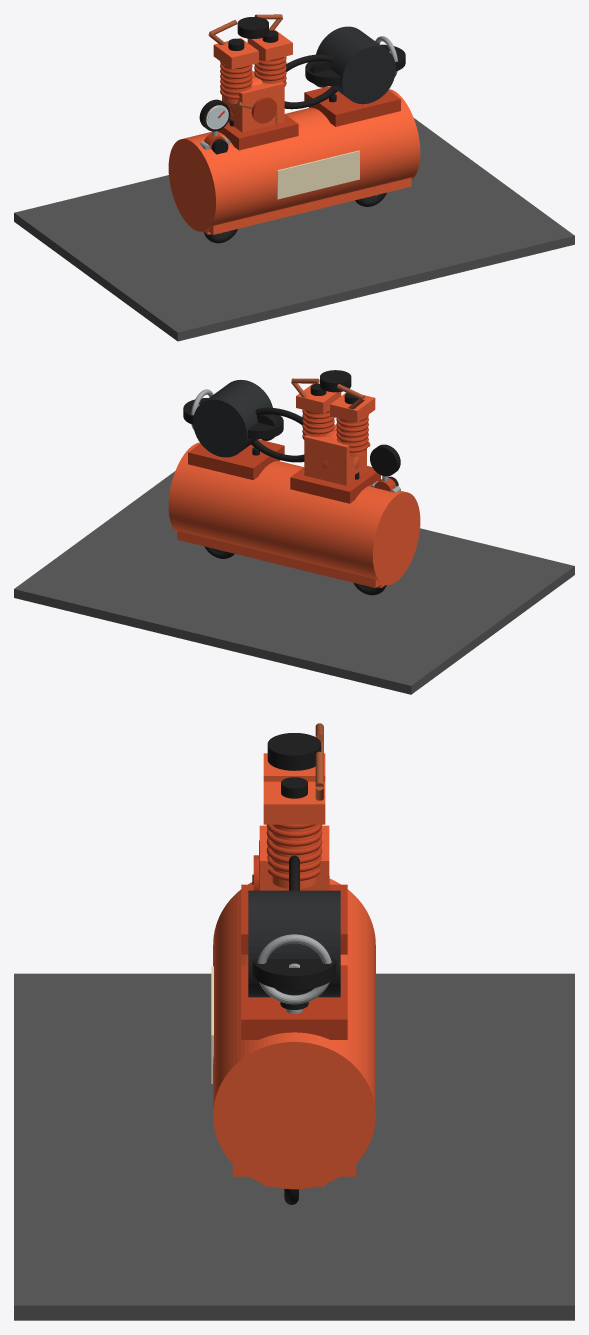
3 views of the same model, one above another, from view 1: azimuth 30°, elevation 25°; view 2: azimuth 150°, elevation 25°; view 3: azimuth 270°, elevation 25° (orthographic). The views are drawn at different scales.
Parts seen in each view (by area): view 1: Floor, Main Air Tank, Electric Motor, SHARK Label, Tank Bottom Shadow, Motor Mount, Compressor Pump Body, Pump Mount, Cylinder Head 1, Drive Belt, Cylinder Head 2, Pump Top Cap (+2 smaller); view 2: Floor, Main Air Tank, Electric Motor, Compressor Pump Body, Tank Bottom Shadow, Motor Mount, Pump Mount, Cylinder Head 1, Drive Belt, Pressure Gauge Housing, Cylinder Head 2, Pump Top Cap (+1 smaller); view 3: Floor, Main Air Tank, Electric Motor, Motor Mount, Motor Rear, Cylinder Head 2, Pump Top Cap, Compressor Pump Body, Motor Fan Ring, Pump Mount, Pump Cylinder 2, Cylinder Head 1.
Part boxes in pixels (left/top/right/bottom): Floor: left=14, top=118, right=574, bottom=341; Main Air Tank: left=168, top=89, right=420, bottom=231; Electric Motor: left=316, top=26, right=395, bottom=104; SHARK Label: left=277, top=150, right=359, bottom=199; Tank Bottom Shadow: left=177, top=177, right=411, bottom=234; Motor Mount: left=304, top=86, right=400, bottom=126; Compressor Pump Body: left=222, top=71, right=284, bottom=132; Pump Mount: left=218, top=114, right=298, bottom=150; Cylinder Head 1: left=213, top=38, right=258, bottom=69; Drive Belt: left=284, top=54, right=337, bottom=109; Cylinder Head 2: left=247, top=30, right=292, bottom=60; Pump Top Cap: left=237, top=17, right=268, bottom=38; Floor: left=14, top=471, right=574, bottom=694; Main Air Tank: left=168, top=442, right=420, bottom=584; Electric Motor: left=193, top=380, right=272, bottom=457; Compressor Pump Body: left=304, top=424, right=366, bottom=485; Tank Bottom Shadow: left=177, top=531, right=411, bottom=588; Motor Mount: left=188, top=439, right=284, bottom=480; Pump Mount: left=290, top=466, right=380, bottom=503; Cylinder Head 1: left=330, top=392, right=375, bottom=422; Drive Belt: left=251, top=407, right=304, bottom=462; Pressure Gauge Housing: left=370, top=444, right=400, bottom=476; Cylinder Head 2: left=296, top=383, right=341, bottom=414; Pump Top Cap: left=320, top=370, right=351, bottom=392; Floor: left=14, top=973, right=574, bottom=1320; Main Air Tank: left=213, top=878, right=375, bottom=1189; Electric Motor: left=248, top=890, right=340, bottom=997; Motor Mount: left=241, top=965, right=347, bottom=1039; Motor Rear: left=252, top=959, right=336, bottom=990; Cylinder Head 2: left=263, top=781, right=325, bottom=824; Pump Top Cap: left=267, top=733, right=321, bottom=770; Compressor Pump Body: left=259, top=825, right=329, bottom=890; Motor Fan Ring: left=257, top=934, right=331, bottom=1004; Pump Mount: left=241, top=884, right=347, bottom=954; Pump Cylinder 2: left=271, top=824, right=317, bottom=888; Cylinder Head 1: left=263, top=753, right=325, bottom=781.
Bounding box in the file's own units: 14 × 7.42 × 10.
